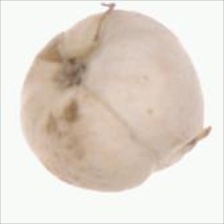L5: (31, 16, 106, 123), (125, 123, 212, 188)
L6: (16, 5, 208, 196)
